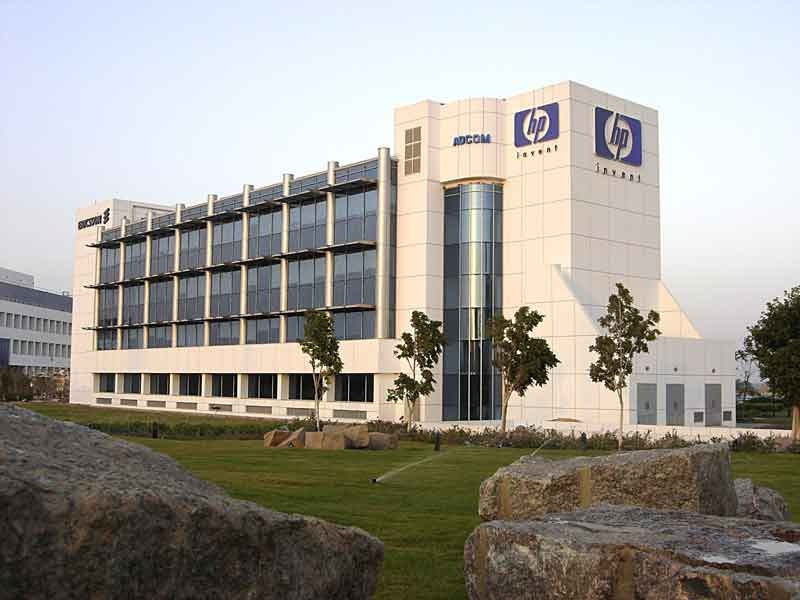hp: (605, 108, 634, 166), (521, 108, 551, 142)
